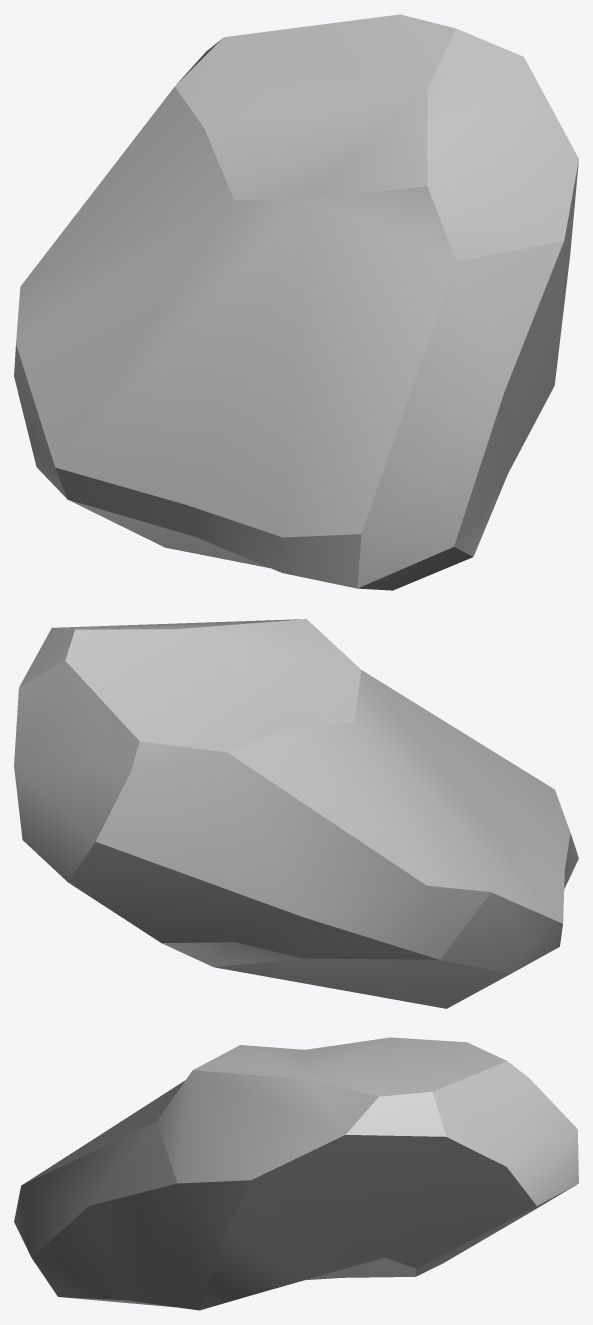
The model's file is SK_Rock_007.FBX.
The picture shows the model from 3 angles, top to bottom: view 1: azimuth 30°, elevation 25°; view 2: azimuth 150°, elevation 25°; view 3: azimuth 270°, elevation 25°; orthographic projection. The views are drawn at different scales.
Parts seen in each view (by area): view 1: SK_Rock_007; view 2: SK_Rock_007; view 3: SK_Rock_007.
Boxes of the visible parts, bbox=[...] form: SK_Rock_007: bbox=[14, 14, 578, 590]; SK_Rock_007: bbox=[14, 619, 578, 1008]; SK_Rock_007: bbox=[14, 1037, 578, 1310].
Size of the model in its own units: 130 by 92.27 by 152.
Materials: 1 (1 with a texture image).
